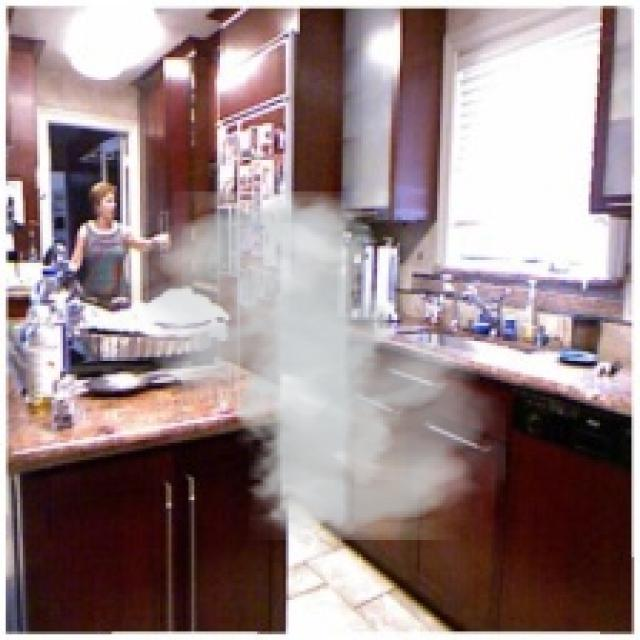smoke: (120, 191, 506, 540)
